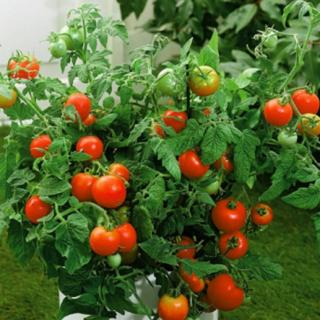Tomat: (211, 196, 251, 262), (205, 272, 249, 314), (90, 222, 139, 259), (91, 174, 130, 210), (265, 97, 295, 128)
